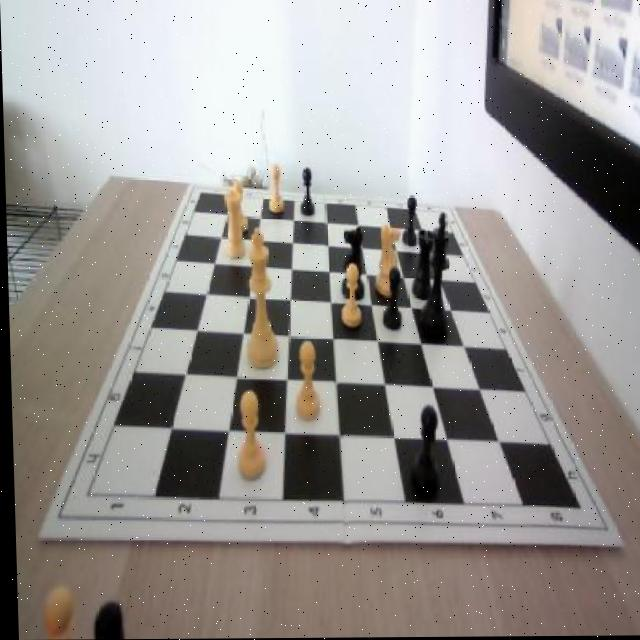black-bishop: (417, 213, 453, 336)
black-king: (341, 224, 366, 303)
black-knight: (408, 406, 439, 495), (380, 265, 403, 333), (400, 196, 417, 249), (298, 166, 314, 216)
black-queen: (410, 225, 438, 302)
white-bishop: (241, 225, 277, 369)
white-king: (373, 224, 401, 297)
white-knight: (230, 391, 265, 481), (293, 336, 320, 422), (338, 266, 364, 335), (229, 182, 248, 232), (266, 166, 285, 215)
white-queen: (221, 190, 246, 260)
